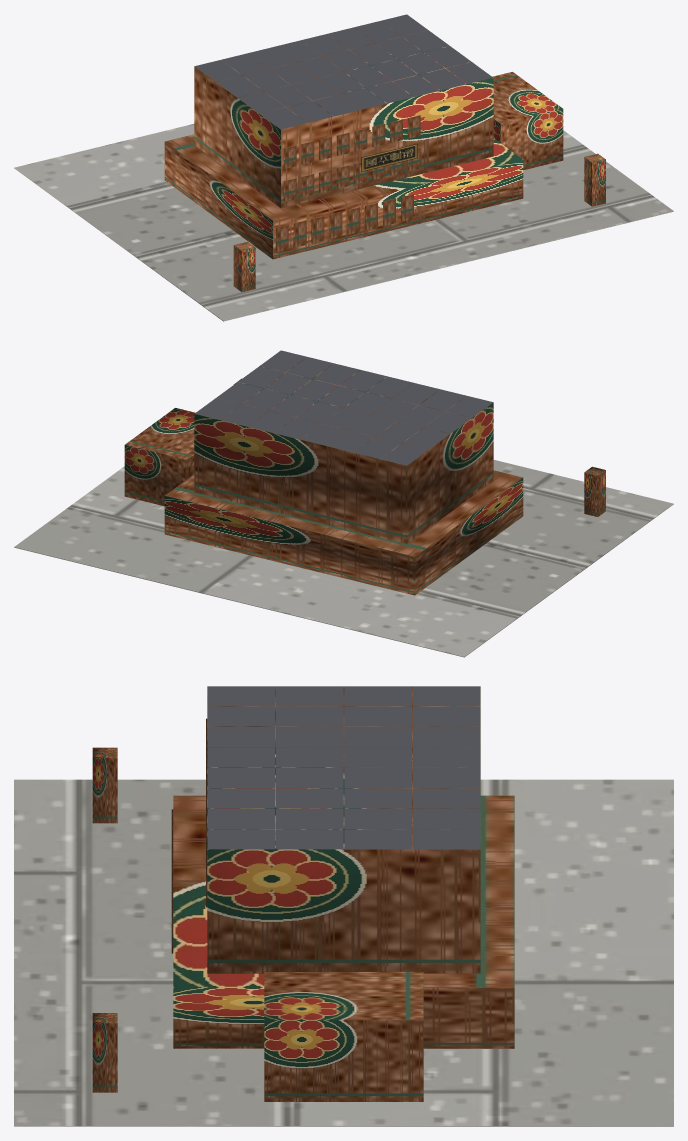
The picture shows the model from 3 angles, top to bottom: view 1: azimuth 30°, elevation 25°; view 2: azimuth 150°, elevation 25°; view 3: azimuth 270°, elevation 25°; orthographic projection. The views are drawn at different scales.
Visible parts, largest first — view 1: 11140_02_04621_027_02_L2__body, 11140_02_04621_027_01_L2__base, 11140_02_04621_027_03_L2__roof, 11140_02_04621_027_05_L2__openings, 11140_02_04621_027_06_L2__green, 11140_02_04621_027_04_L2__sign; view 2: 11140_02_04621_027_02_L2__body, 11140_02_04621_027_01_L2__base, 11140_02_04621_027_03_L2__roof, 11140_02_04621_027_06_L2__green; view 3: 11140_02_04621_027_01_L2__base, 11140_02_04621_027_02_L2__body, 11140_02_04621_027_03_L2__roof, 11140_02_04621_027_06_L2__green, 11140_02_04621_027_05_L2__openings.
Part boxes in pixels (bbox=[...]): 11140_02_04621_027_02_L2__body: bbox=[164, 21, 563, 259]; 11140_02_04621_027_01_L2__base: bbox=[14, 124, 673, 321]; 11140_02_04621_027_03_L2__roof: bbox=[195, 14, 492, 129]; 11140_02_04621_027_05_L2__openings: bbox=[275, 115, 420, 252]; 11140_02_04621_027_06_L2__green: bbox=[233, 153, 605, 291]; 11140_02_04621_027_04_L2__sign: bbox=[361, 144, 417, 171]; 11140_02_04621_027_02_L2__body: bbox=[124, 357, 523, 595]; 11140_02_04621_027_01_L2__base: bbox=[14, 460, 673, 657]; 11140_02_04621_027_03_L2__roof: bbox=[195, 350, 492, 465]; 11140_02_04621_027_06_L2__green: bbox=[233, 378, 605, 516]; 11140_02_04621_027_01_L2__base: bbox=[14, 779, 673, 1126]; 11140_02_04621_027_02_L2__body: bbox=[173, 686, 514, 1101]; 11140_02_04621_027_03_L2__roof: bbox=[207, 686, 480, 849]; 11140_02_04621_027_06_L2__green: bbox=[92, 747, 117, 1092]; 11140_02_04621_027_05_L2__openings: bbox=[171, 718, 207, 953].
Bounding box in the file's own units: 72 × 18.02 × 58.
5 materials, 5 textured.
